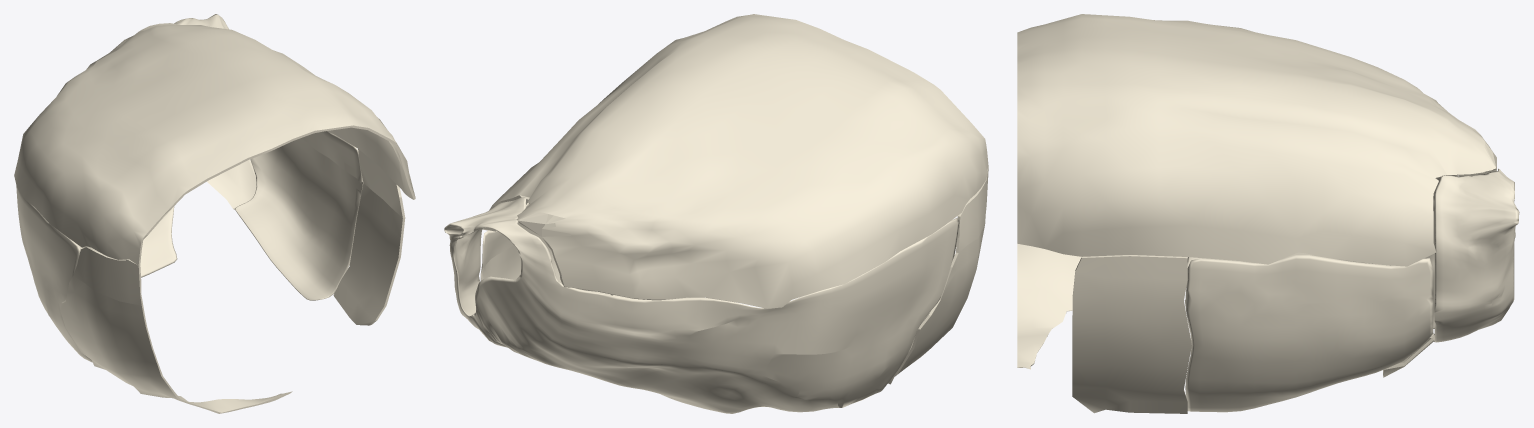
Rendered from OssTurbo.FBX.
3 renders of one model, left to right at view 1: azimuth 30°, elevation 25°; view 2: azimuth 150°, elevation 25°; view 3: azimuth 270°, elevation 25°, orthographic. The views are drawn at different scales.
Visible parts, largest first — view 1: osFrontale, osEthmoidale, osZygomaticum, osLacrimale, osSphenoildale, osPalatinum; view 2: osFrontale, osSphenoildale, osZygomaticum, osEthmoidale; view 3: osFrontale, osEthmoidale, osLacrimale, osSphenoildale, osZygomaticum.
Boxes of the visible parts, x1,y1,x2,y2 form: osFrontale: (14,23,415,265); osEthmoidale: (235,131,363,300); osZygomaticum: (59,246,292,413); osLacrimale: (333,149,405,325); osSphenoildale: (16,14,228,362); osPalatinum: (207,159,256,209); osFrontale: (482,14,988,308); osSphenoildale: (444,197,959,413); osZygomaticum: (888,168,988,384); osEthmoidale: (480,202,611,295); osFrontale: (1017,14,1496,266); osEthmoidale: (1184,255,1433,412); osLacrimale: (1072,255,1191,413); osSphenoildale: (1187,168,1519,342); osZygomaticum: (1017,244,1081,369).
Size of the model in its own units: 1.54 by 1.27 by 1.75.
